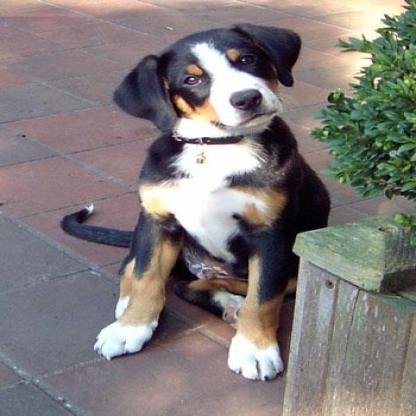EntleBucher: (52, 23, 330, 397)
